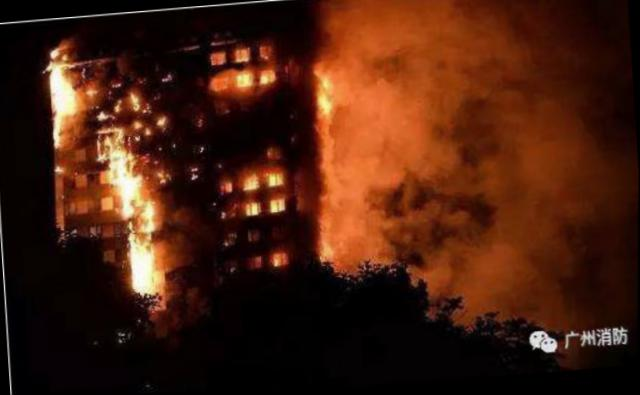fire: (205, 37, 347, 274), (90, 77, 194, 302), (40, 40, 86, 151)
